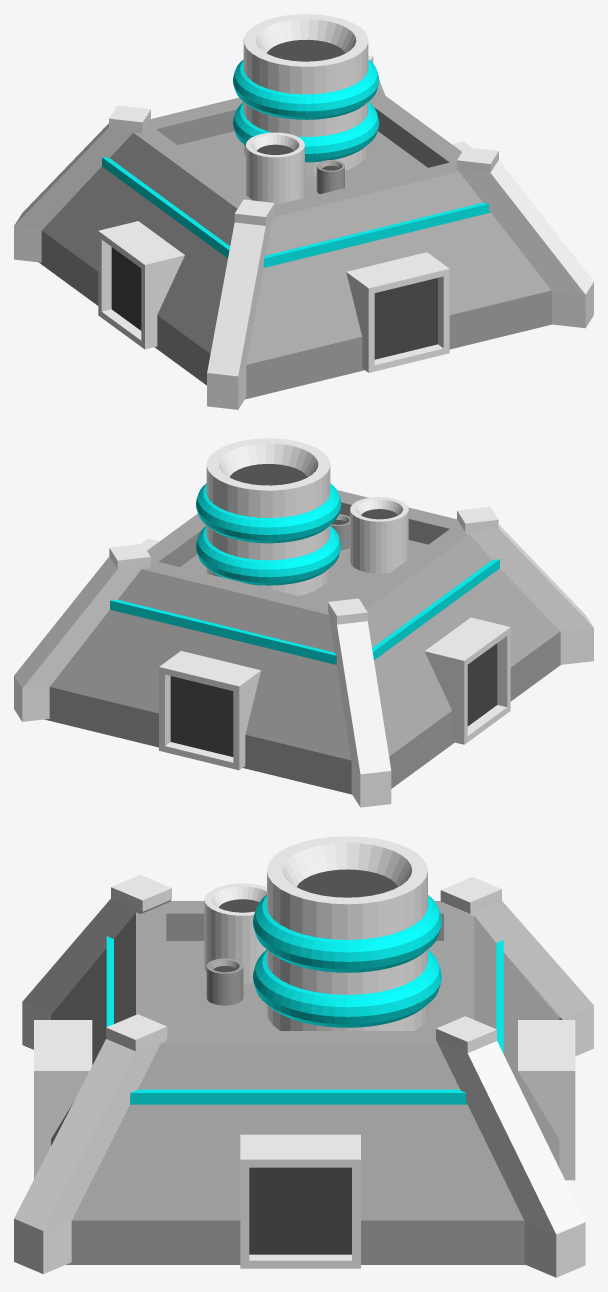
Rendered from TownHall.fbx.
3 views of the same model, one above another, from view 1: azimuth 30°, elevation 25°; view 2: azimuth 150°, elevation 25°; view 3: azimuth 270°, elevation 25° (orthographic). The views are drawn at different scales.
Parts seen in each view (by area): view 1: TownHall; view 2: TownHall; view 3: TownHall.
Part boxes in pixels (x1,y1,x2,y2): TownHall: (14, 14, 593, 409); TownHall: (14, 438, 593, 807); TownHall: (14, 836, 593, 1277).
Bounding box in the file's own units: 700 × 399 × 700.
